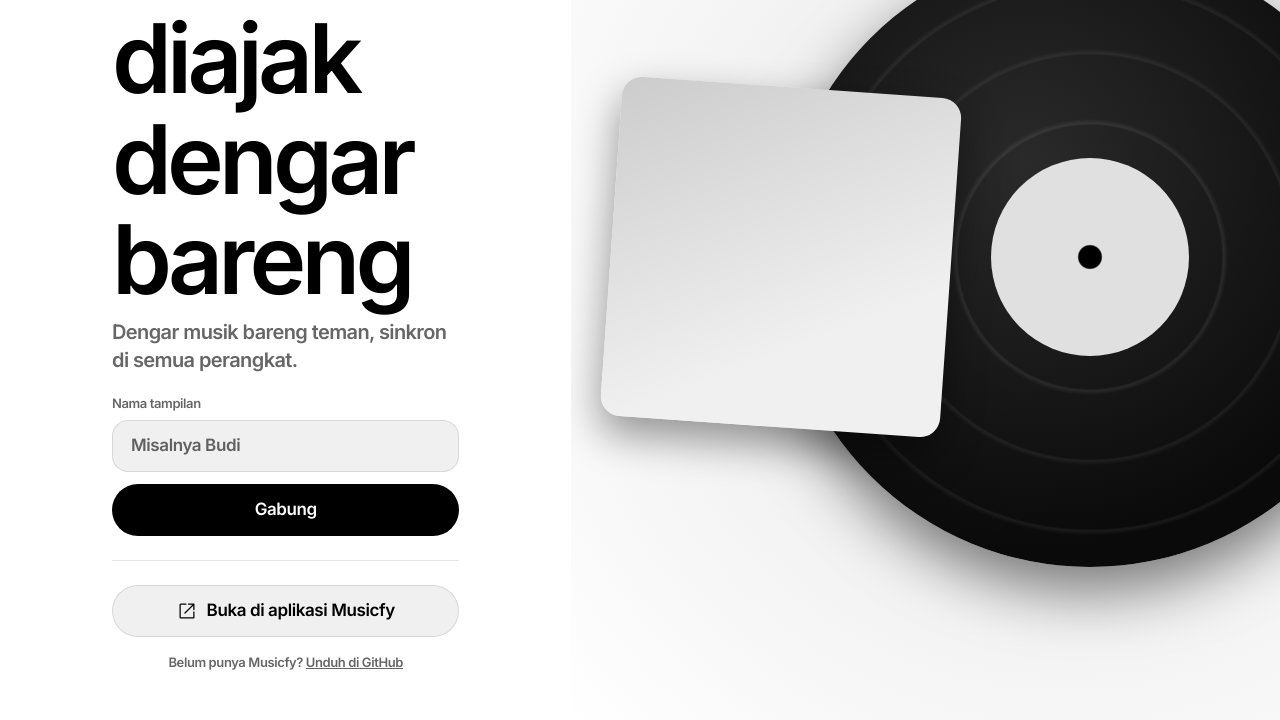
Test: HomeScreen › invite page: empty name shows the field error and focuses the field
This screenshot has width=1280, height=720.
(page scrolled)
What coordinates should you click on to do the following:
click the button "Gabung"
I would click on:
 (286, 510)
Its box is top-left (112, 484), bottom-right (459, 536).
(page scrolled)
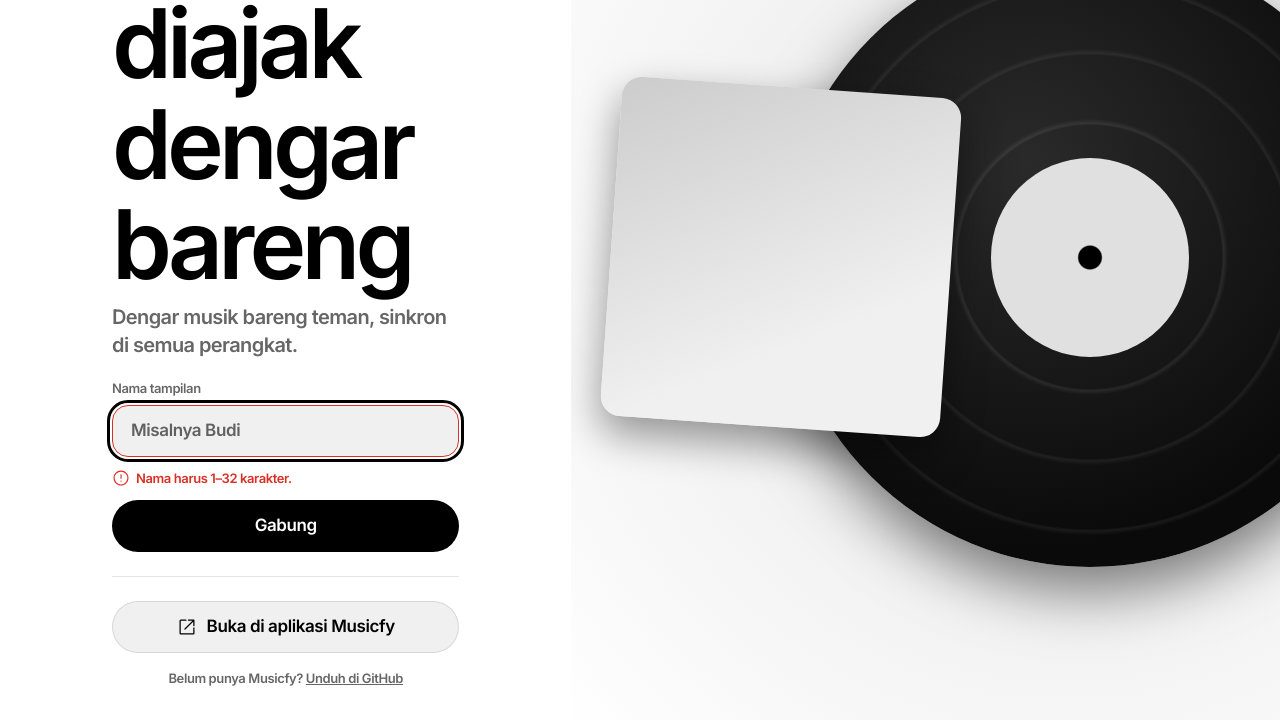
Result: the field labelled "Nama tampilan" is marked as invalid at top-left (112, 405), bottom-right (459, 457)
Result: the field labelled "Nama tampilan" has attribute aria-describedby="name-error" at top-left (112, 405), bottom-right (459, 457)
